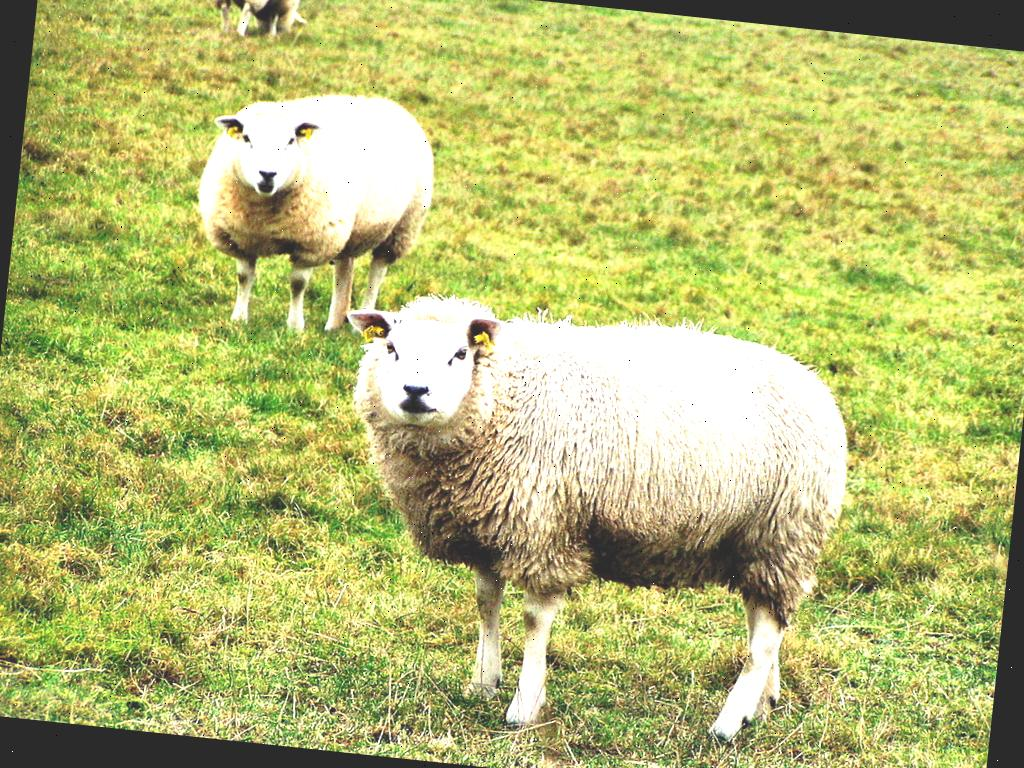Sheep: (302, 266, 864, 762), (185, 79, 446, 348), (198, 0, 309, 42)
